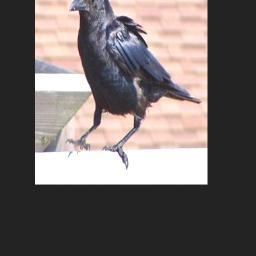Crow: (66, 0, 201, 170)
